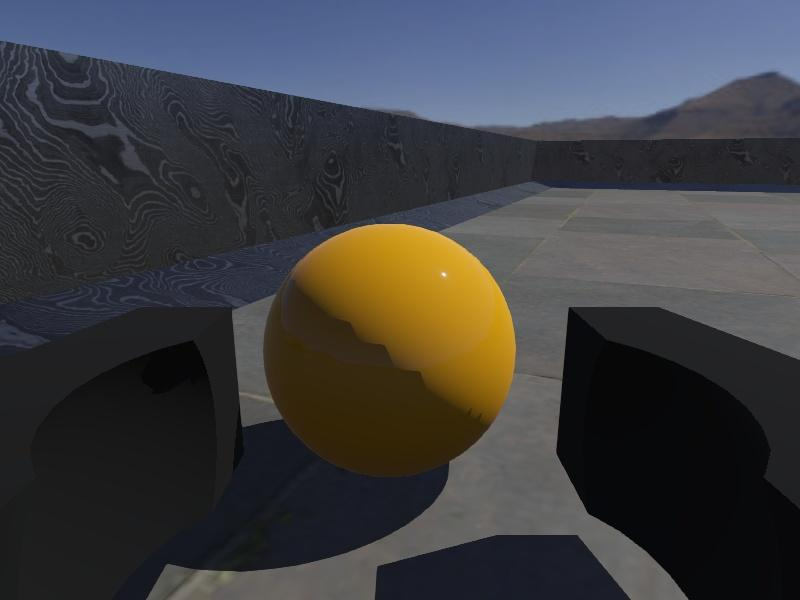orange ball: (262, 222, 517, 479)
